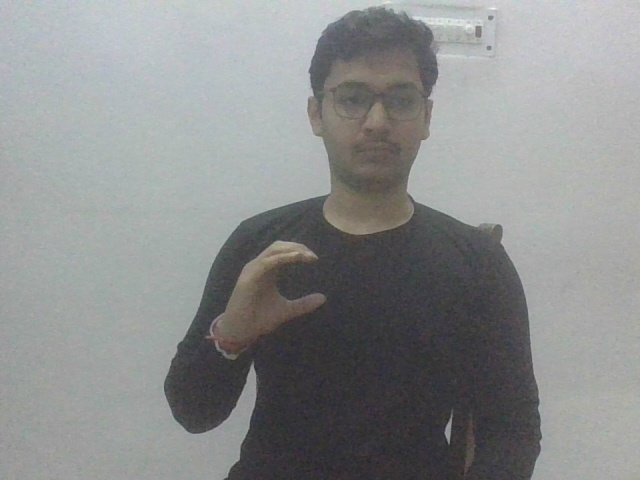C: (224, 232, 335, 344)
